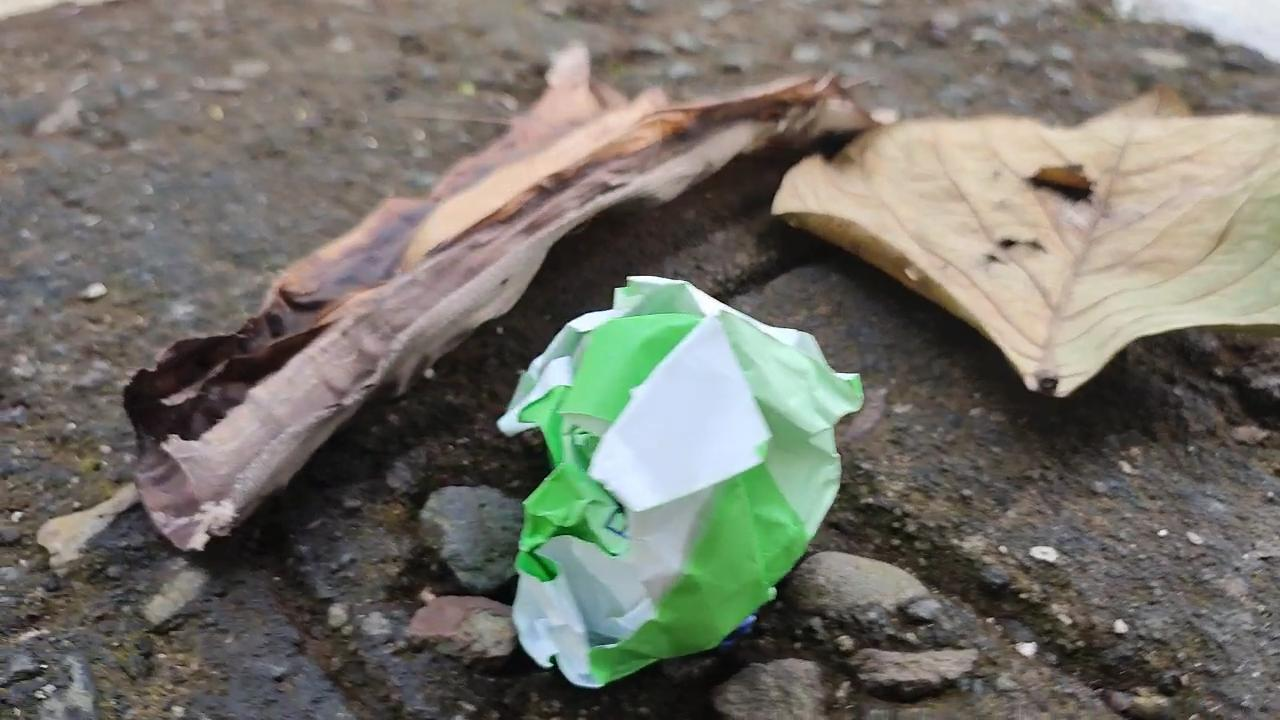Paper: (488, 268, 871, 694)
